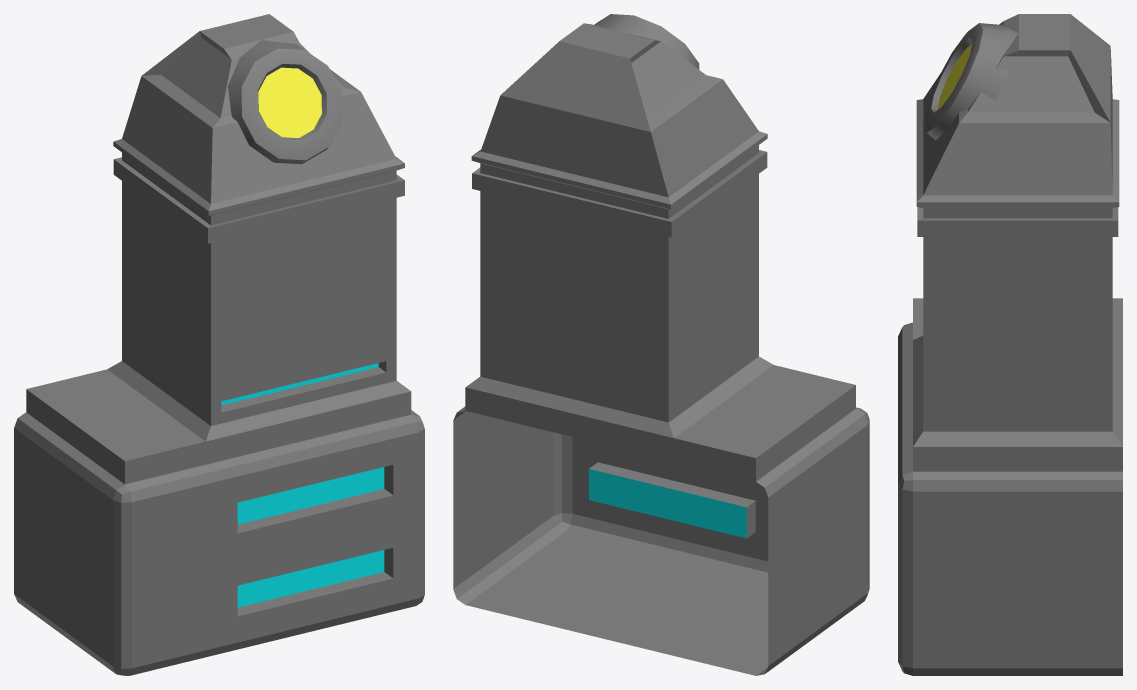
The model's file is Module_005.fbx.
3 renders of one model, left to right at view 1: azimuth 30°, elevation 25°; view 2: azimuth 150°, elevation 25°; view 3: azimuth 270°, elevation 25°, orthographic. The views are drawn at different scales.
Parts seen in each view (by area): view 1: Module_005; view 2: Module_005; view 3: Module_005.
Part boxes in pixels (x1,y1,x2,y2): Module_005: (14, 14, 424, 675); Module_005: (453, 14, 869, 675); Module_005: (898, 14, 1122, 675).
Size of the model in its own units: 340 by 583 by 200.
